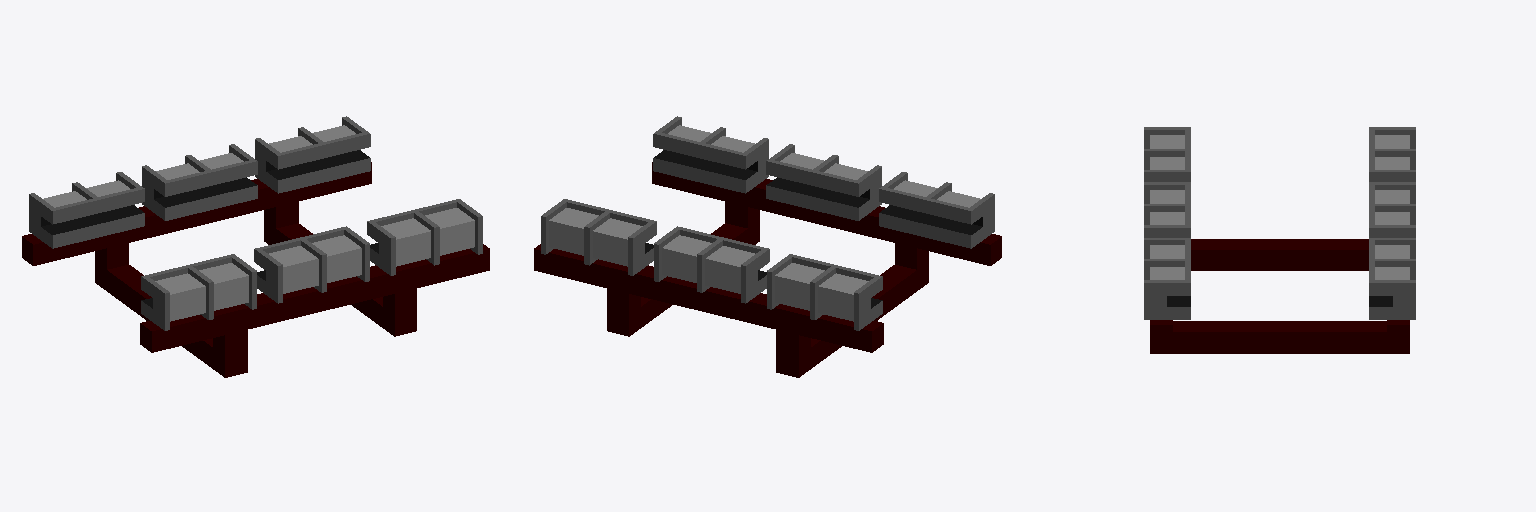
The model's file is lim_booster.obj.
3 renders of one model, left to right at view 1: azimuth 30°, elevation 25°; view 2: azimuth 150°, elevation 25°; view 3: azimuth 270°, elevation 25°, orthographic.
Bounding box in the file's own units: 3.3 × 0.95 × 2.3.